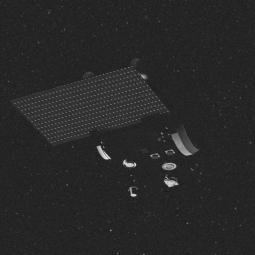proba_3_csc: (23, 61, 203, 207)
